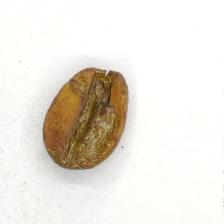NG: (63, 76, 117, 167)
